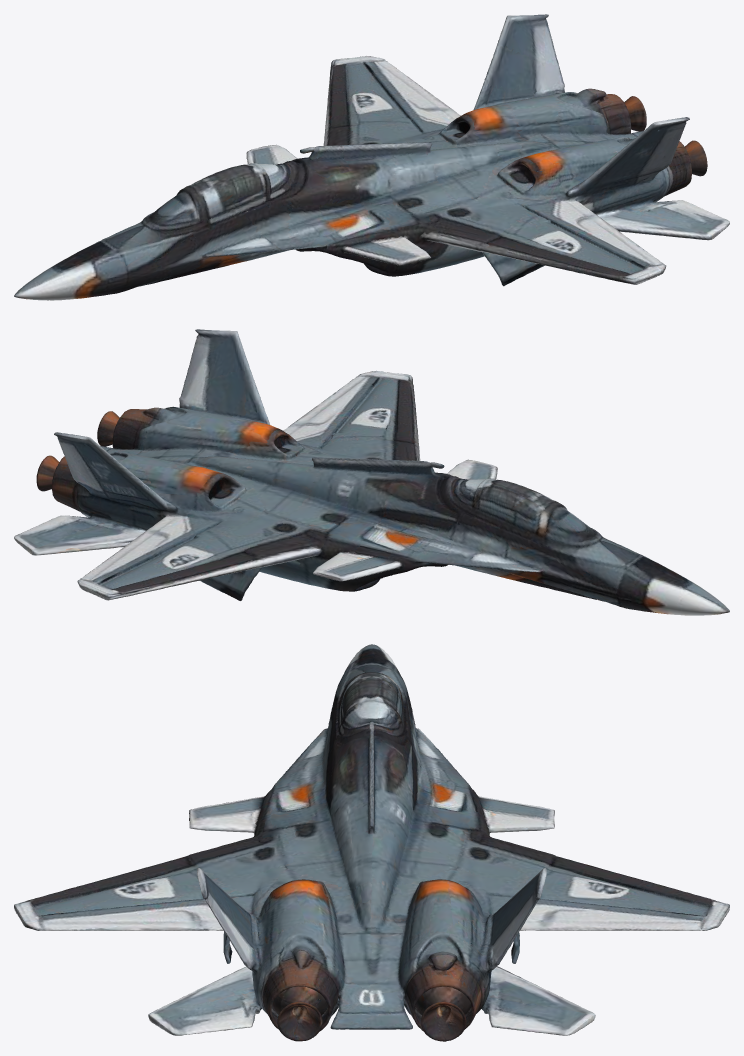
Rendered from sentouki.glb.
3 views of the same model, one above another, from view 1: azimuth 30°, elevation 25°; view 2: azimuth 150°, elevation 25°; view 3: azimuth 270°, elevation 25° (orthographic). The views are drawn at different scales.
Bounding box in the file's own units: 1.9 × 0.3869 × 1.52.
Materials: 1 (1 with a texture image).
